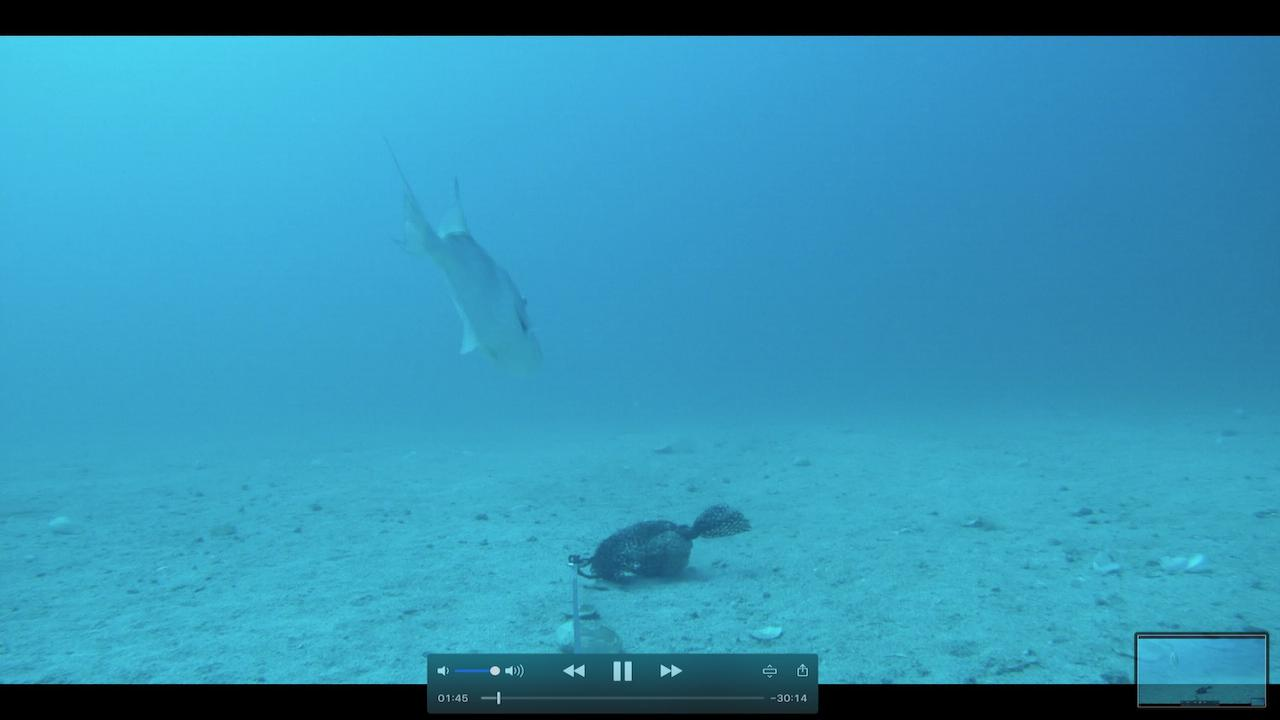balistes: (369, 132, 547, 379)
